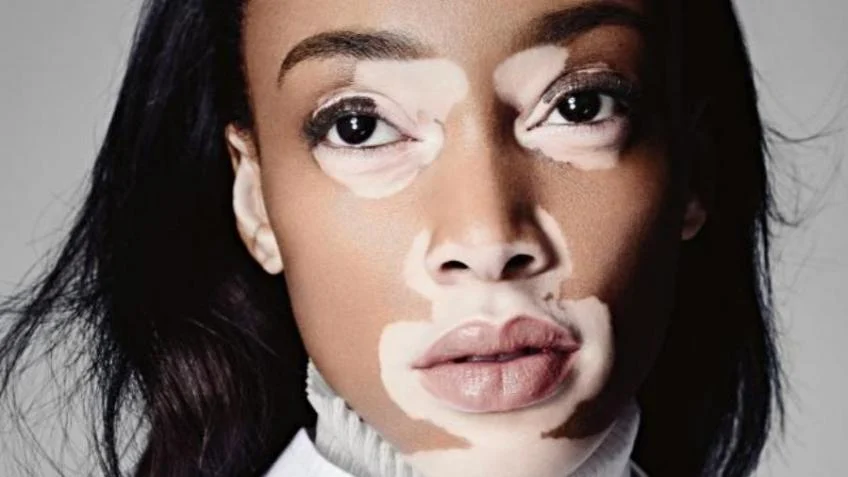Vitiligo: (285, 23, 636, 440)
